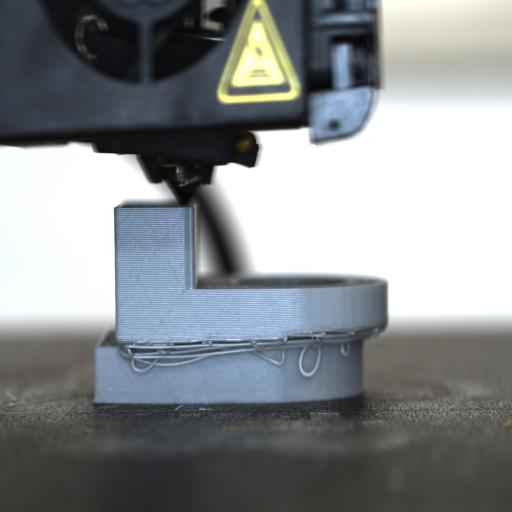layer_shift: (92, 324, 391, 353)
